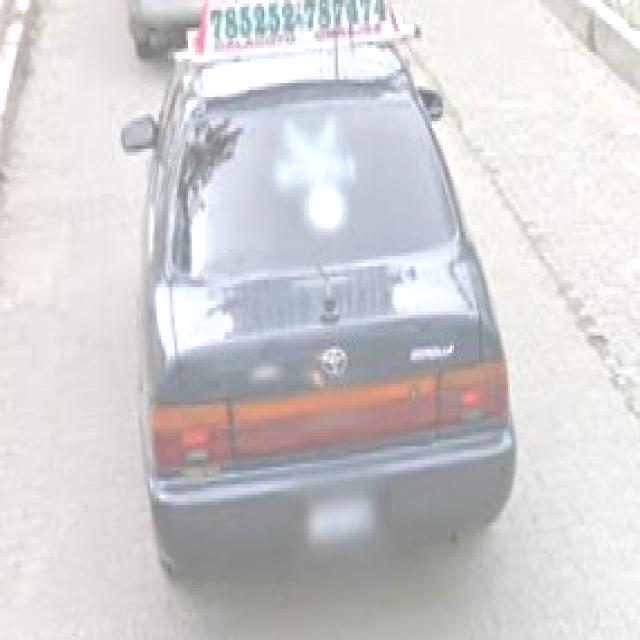car: (123, 11, 523, 613)
